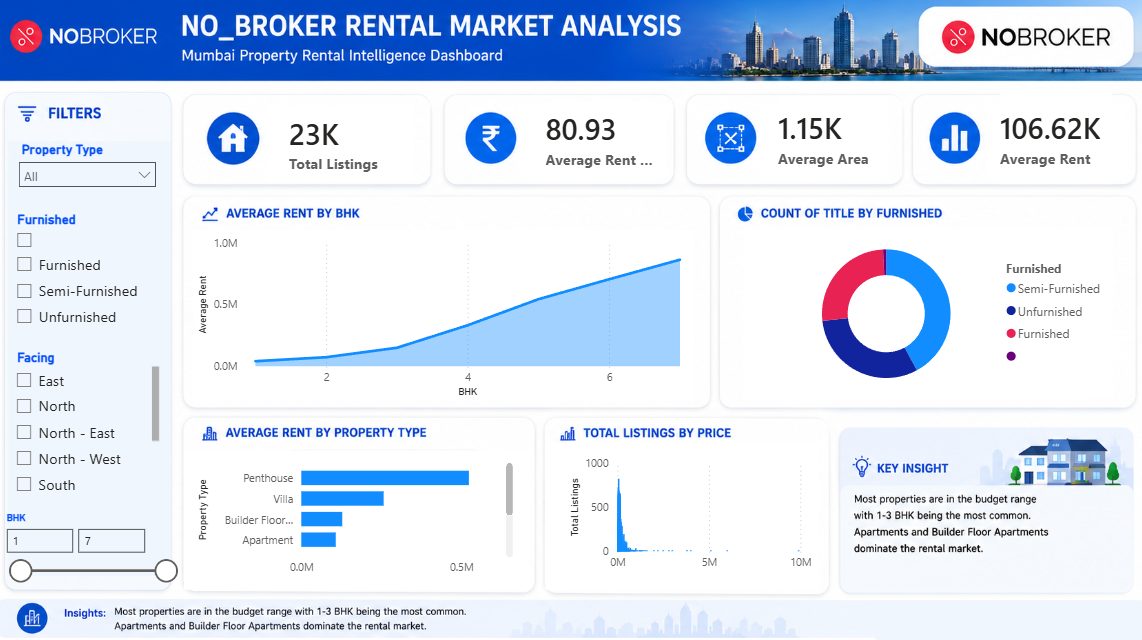

Layout of this report page (visuals, bound fields, positions):
{"tool":"powerbi","page":{"name":"Page 1","canvas":[1280,720],"ordinal":0},"visuals":[{"type":"shape","box":[301.4,124.3,164.3,84.3],"z":0},{"type":"shape","box":[581.4,124.3,164.3,82.9],"z":1000},{"type":"shape","box":[850,124.3,128.6,82.9],"z":2000},{"type":"shape","box":[1101.4,124.3,155.7,82.9],"z":3000},{"type":"shape","box":[220,262.7,556,189.3],"z":4000},{"type":"shape","box":[832,262.7,374.7,189.3],"z":5000},{"type":"shape","box":[209.3,508,384,154.7],"z":6000},{"type":"shape","box":[612,501.3,302.7,161.3],"z":7000},{"type":"shape","box":[978.7,674.7,301.3,45.3],"z":8000},{"type":"shape","box":[14.3,165.7,180,482.9],"z":9000},{"type":"cardVisual","fields":{"Data":["Mumbai_property_details_cleaned.Total Listings"]},"box":[327.1,131.4,138.6,70],"z":10000},{"type":"cardVisual","fields":{"Data":["Mumbai_property_details_cleaned.Average Rent"]},"box":[1117.1,108.6,124.3,104.3],"z":11000},{"type":"cardVisual","fields":{"Data":["Mumbai_property_details_cleaned.Average Area"]},"box":[870,115.7,121.4,91.4],"z":12000},{"type":"cardVisual","fields":{"Data":["Mumbai_property_details_cleaned.Average Rent per SqFt"]},"box":[611.4,121.4,120,80],"z":13000},{"type":"areaChart","fields":{"Category":["Mumbai_property_details_cleaned.BHK"],"Y":["Mumbai_property_details_cleaned.Average Rent"]},"box":[220,262.9,555.7,190],"z":14000},{"type":"clusteredBarChart","fields":{"Category":["Mumbai_property_details_cleaned.Property Type"],"Y":["Mumbai_property_details_cleaned.Average Rent"]},"box":[220.8,507.5,360.4,147.2],"z":15000},{"type":"columnChart","fields":{"Category":["Mumbai_property_details_cleaned.Price"],"Y":["Mumbai_property_details_cleaned.Total Listings"]},"box":[634,507.5,279.2,141.5],"z":16000},{"type":"donutChart","fields":{"Category":["Mumbai_property_details_cleaned.Furnished"],"Y":["CountNonNull(Mumbai_property_details_cleaned.Title)"]},"box":[850.9,262.3,390.6,188.7],"z":17000},{"type":"slicer","fields":{"Values":["Mumbai_property_details_cleaned.Property Type"]},"box":[17,160.4,171.7,77.4],"z":18000},{"type":"slicer","fields":{"Values":["Mumbai_property_details_cleaned.Furnished"]},"box":[11.3,237.7,175.5,154.7],"z":19000},{"type":"slicer","fields":{"Values":["Mumbai_property_details_cleaned.Facing"]},"box":[11.3,392.5,175.5,175.5],"z":20000},{"type":"slicer","fields":{"Values":["Mumbai_property_details_cleaned.BHK"]},"box":[0,571.7,211.3,90.6],"z":21000}]}

Visuals, with their boxes in screenshot pixels (x1, y1, x2, y2), scaled from the page's 1280x720 canvas onto the 1142x640 screenshot:
shape: 269 110 415 185
shape: 519 110 665 184
shape: 758 110 873 184
shape: 983 110 1122 184
shape: 196 234 692 402
shape: 742 234 1077 402
shape: 187 452 529 589
shape: 546 446 816 589
shape: 873 600 1141 639
shape: 13 147 173 577
cardVisual - Mumbai_property_details_cleaned.Total Listings: 292 117 415 179
cardVisual - Mumbai_property_details_cleaned.Average Rent: 997 97 1108 189
cardVisual - Mumbai_property_details_cleaned.Average Area: 776 103 885 184
cardVisual - Mumbai_property_details_cleaned.Average Rent per SqFt: 545 108 653 179
areaChart - Mumbai_property_details_cleaned.BHK x Mumbai_property_details_cleaned.Average Rent: 196 234 692 403
clusteredBarChart - Mumbai_property_details_cleaned.Property Type x Mumbai_property_details_cleaned.Average Rent: 197 451 519 582
columnChart - Mumbai_property_details_cleaned.Price x Mumbai_property_details_cleaned.Total Listings: 566 451 815 577
donutChart - Mumbai_property_details_cleaned.Furnished x CountNonNull(Mumbai_property_details_cleaned.Title): 759 233 1108 401
slicer - Mumbai_property_details_cleaned.Property Type: 15 143 168 211
slicer - Mumbai_property_details_cleaned.Furnished: 10 211 167 349
slicer - Mumbai_property_details_cleaned.Facing: 10 349 167 505
slicer - Mumbai_property_details_cleaned.BHK: 0 508 189 589
